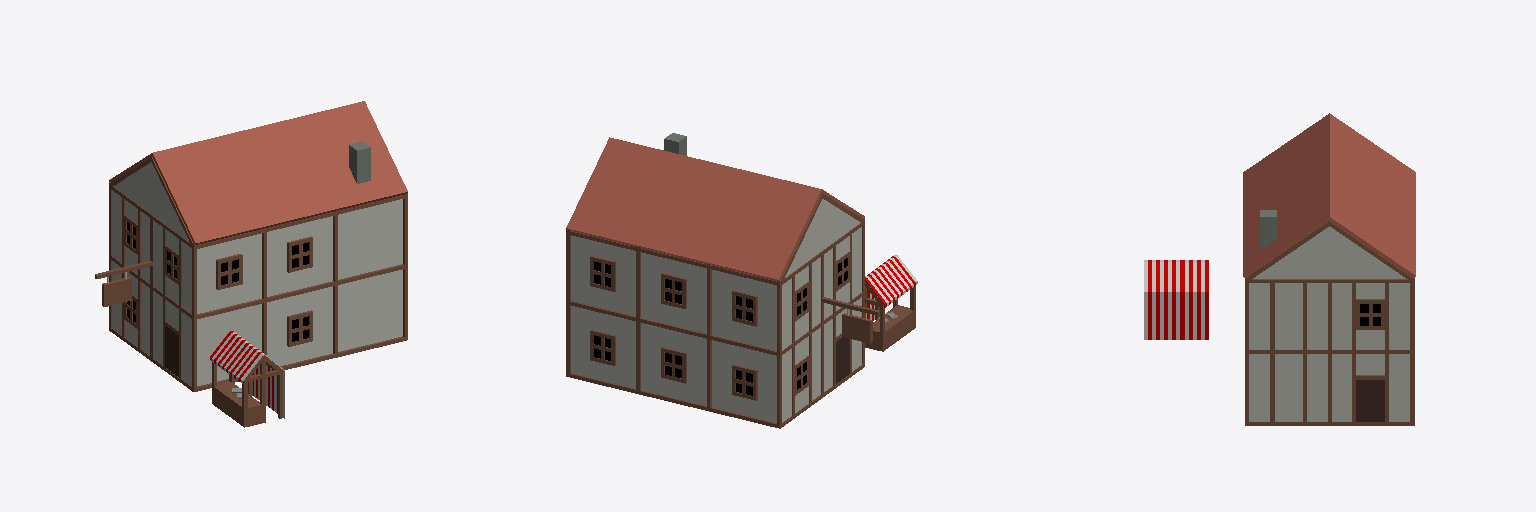
The model's file is timberframedclothier_red_white.obj.
3 renders of one model, left to right at view 1: azimuth 30°, elevation 25°; view 2: azimuth 150°, elevation 25°; view 3: azimuth 270°, elevation 25°, orthographic.
Parts seen in each view (by area): view 1: Cube.005, Cube.007_Cube.011, Cube.011_Cube.015, Cube.018_Cube.016, Cube.056_Cube.081, Cube.001_Cube.058, Cube.013_Cube.080, Cube.006_Cube.010, Cube.055_Cube.059, Cube.026_Cube.019, Cube.073_Cube.078, Cube.012_Cube.017 (+5 smaller); view 2: Cube.005, Cube.007_Cube.011, Cube.023_Cube.026, Cube.022_Cube.025, Cube.021_Cube.024, Cube.015_Cube.020, Cube.019_Cube.022, Cube.017_Cube.021, Cube.014_Cube.018, Cube.008, Cube.020_Cube.023, Cube.073_Cube.078 (+6 smaller); view 3: Cube.005, Cube.007_Cube.011, Cube.147_Cube.153, Cube.003, Cube.033, Cube.027, Cube.047_Cube.049, Cube.031, Cube.016_Cube.013, Cube.006_Cube.010, Cube.012_Cube.017, Cube.035 (+4 smaller).
Boxes of the visible parts, x1,y1,x2,y2 form: Cube.005: [112, 162, 402, 385]; Cube.007_Cube.011: [109, 101, 407, 244]; Cube.011_Cube.015: [195, 264, 406, 319]; Cube.018_Cube.016: [195, 195, 406, 249]; Cube.056_Cube.081: [216, 254, 242, 289]; Cube.001_Cube.058: [287, 310, 312, 346]; Cube.013_Cube.080: [287, 236, 312, 272]; Cube.006_Cube.010: [349, 141, 370, 183]; Cube.055_Cube.059: [197, 336, 406, 391]; Cube.026_Cube.019: [192, 243, 196, 391]; Cube.073_Cube.078: [102, 277, 131, 306]; Cube.012_Cube.017: [403, 193, 407, 339]; Cube.005: [571, 199, 861, 422]; Cube.007_Cube.011: [566, 137, 864, 280]; Cube.023_Cube.026: [567, 373, 776, 427]; Cube.022_Cube.025: [567, 301, 776, 355]; Cube.021_Cube.024: [570, 231, 776, 284]; Cube.015_Cube.020: [732, 290, 757, 326]; Cube.019_Cube.022: [661, 347, 686, 383]; Cube.017_Cube.021: [590, 330, 615, 365]; Cube.014_Cube.018: [661, 273, 686, 308]; Cube.008: [590, 255, 615, 291]; Cube.020_Cube.023: [732, 364, 757, 400]; Cube.073_Cube.078: [842, 313, 872, 343]; Cube.005: [1249, 226, 1409, 421]; Cube.007_Cube.011: [1243, 113, 1415, 277]; Cube.147_Cube.153: [1144, 292, 1208, 339]; Cube.003: [1356, 380, 1384, 421]; Cube.033: [1356, 299, 1384, 329]; Cube.027: [1410, 277, 1414, 425]; Cube.047_Cube.049: [1270, 279, 1274, 423]; Cube.031: [1249, 422, 1410, 425]; Cube.016_Cube.013: [1248, 350, 1409, 353]; Cube.006_Cube.010: [1260, 210, 1276, 249]; Cube.012_Cube.017: [1245, 277, 1248, 425]; Cube.035: [1352, 279, 1355, 423].
Size of the model in its own units: 15.3 by 11.25 by 13.34.